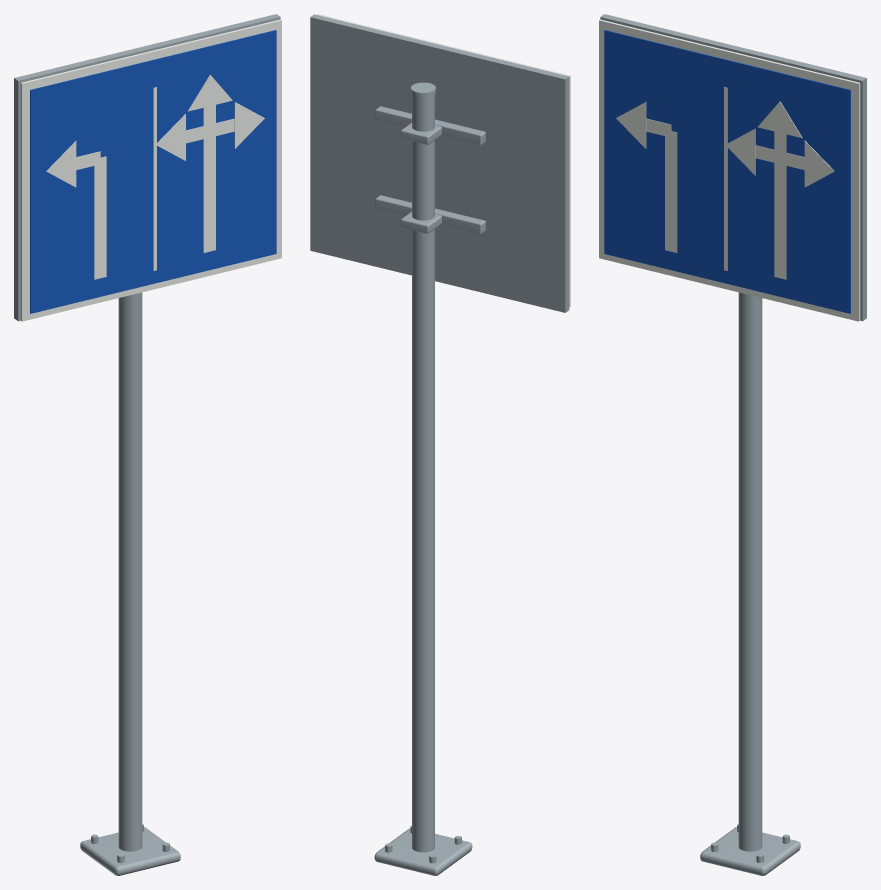
Rendered from DS_Sign_LaneDir_L_LSR.fbx.
3 views of the same model, side by side, from view 1: azimuth 30°, elevation 25°; view 2: azimuth 150°, elevation 25°; view 3: azimuth 330°, elevation 25° (orthographic). The views are drawn at different scales.
Visible parts, largest first — view 1: Face_Field.021, Post.028, Face_Border.021, Plate_Back.036, BasePlate.028, LaneStem0.002, LaneStem0.003, ArrowHead.006, ArrowHead.003, ArrowHead.004, ArrowHead.005, LaneDivider0.001; view 2: Plate_Back.036, Post.028, BasePlate.028, RearRail.060, RearRail.059, Face_Border.021, PostClamp.055, PostClamp.056; view 3: Face_Field.021, Post.028, Face_Border.021, Plate_Back.036, BasePlate.028, LaneStem0.003, LaneStem0.002, ArrowHead.003, ArrowHead.006, ArrowHead.005, ArrowHead.004, LaneDivider0.001.
Part boxes in pixels (x1,y1,x2,y2): Face_Field.021: (30,30,276,313); Post.028: (118,292,142,851); Face_Border.021: (20,19,281,321); Plate_Back.036: (14,14,280,321); BasePlate.028: (80,827,180,875); LaneStem0.002: (94,179,106,279); LaneStem0.003: (203,152,215,252); ArrowHead.006: (234,102,264,148); ArrowHead.003: (46,140,76,187); ArrowHead.004: (187,74,232,111); ArrowHead.005: (155,114,185,160); LaneDivider0.001: (153,87,156,270); Plate_Back.036: (310,14,569,312); Post.028: (412,94,434,852); BasePlate.028: (374,828,472,875); RearRail.060: (375,106,485,145); RearRail.059: (375,195,485,234); Face_Border.021: (317,14,570,307); PostClamp.055: (401,211,441,233); PostClamp.056: (401,122,441,144); Face_Field.021: (604,30,850,313); Post.028: (738,292,762,851); Face_Border.021: (599,19,860,321); Plate_Back.036: (600,14,866,321); BasePlate.028: (700,827,800,875); LaneStem0.003: (774,179,786,279); LaneStem0.002: (665,152,677,252); ArrowHead.003: (616,102,646,148); ArrowHead.006: (804,140,834,187); ArrowHead.005: (725,128,755,175); ArrowHead.004: (757,101,802,138); LaneDivider0.001: (724,87,727,270).
Size of the model in its own units: 96 by 287 by 28.
